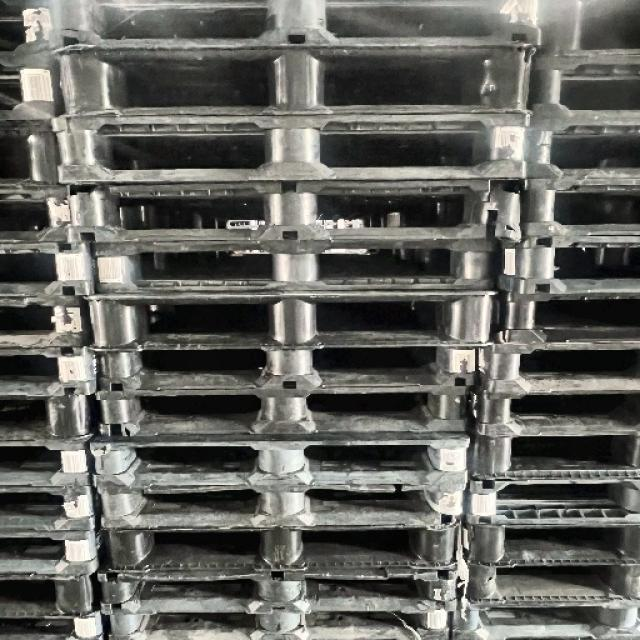igps: (46, 38, 540, 121), (45, 109, 534, 188), (63, 174, 535, 250), (80, 284, 502, 355), (89, 234, 505, 299), (49, 0, 547, 52), (99, 511, 464, 576), (85, 338, 500, 395), (88, 430, 474, 490), (93, 382, 472, 438), (96, 480, 470, 531), (96, 566, 460, 618), (106, 607, 452, 640), (460, 425, 640, 486), (451, 472, 640, 530), (486, 230, 640, 297), (460, 556, 640, 613), (454, 516, 640, 570), (470, 339, 640, 398), (460, 386, 640, 440), (486, 286, 640, 346), (513, 170, 640, 242), (517, 111, 640, 183), (520, 54, 640, 126), (447, 596, 640, 640), (524, 0, 640, 62), (0, 378, 105, 445), (0, 239, 98, 300), (0, 430, 99, 490), (0, 526, 112, 577), (0, 293, 96, 352), (0, 344, 103, 398), (0, 482, 106, 534), (0, 48, 69, 123), (0, 569, 96, 620), (0, 179, 74, 245), (0, 116, 65, 188), (0, 606, 107, 639), (0, 0, 61, 57)
